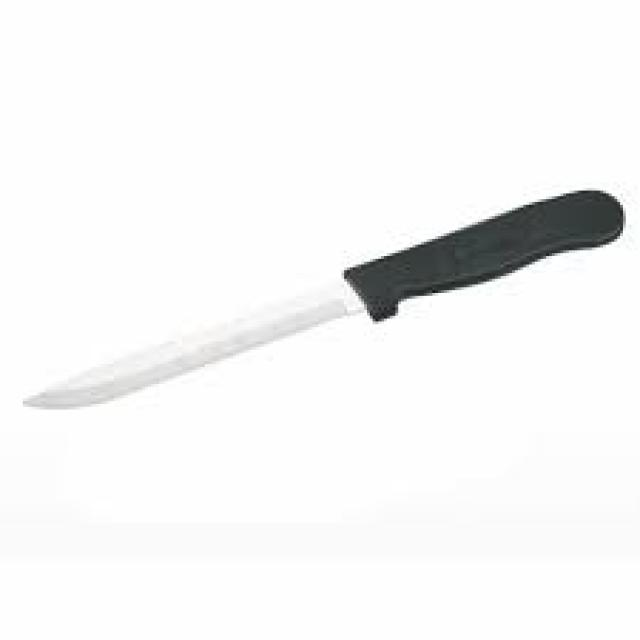Knife: (20, 185, 623, 409)
